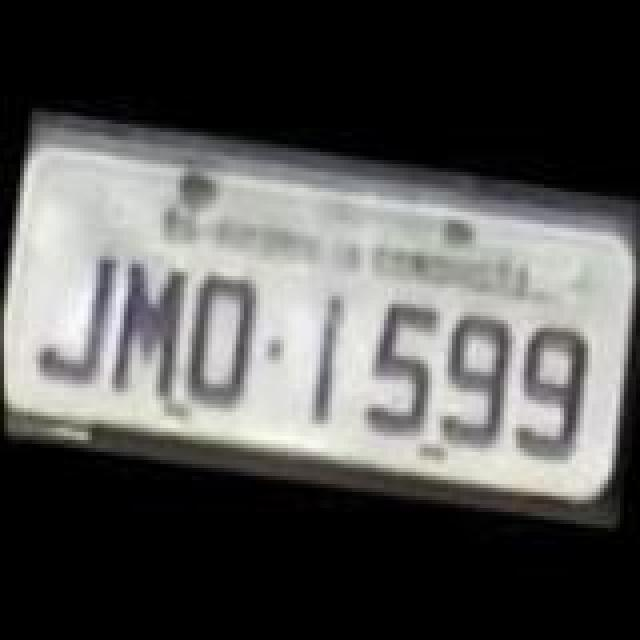1: (290, 284, 354, 432)
5: (348, 296, 448, 448)
9: (504, 316, 600, 468), (424, 308, 520, 452)
J: (30, 242, 126, 390)
M: (100, 258, 200, 406)
O: (174, 266, 262, 414)
